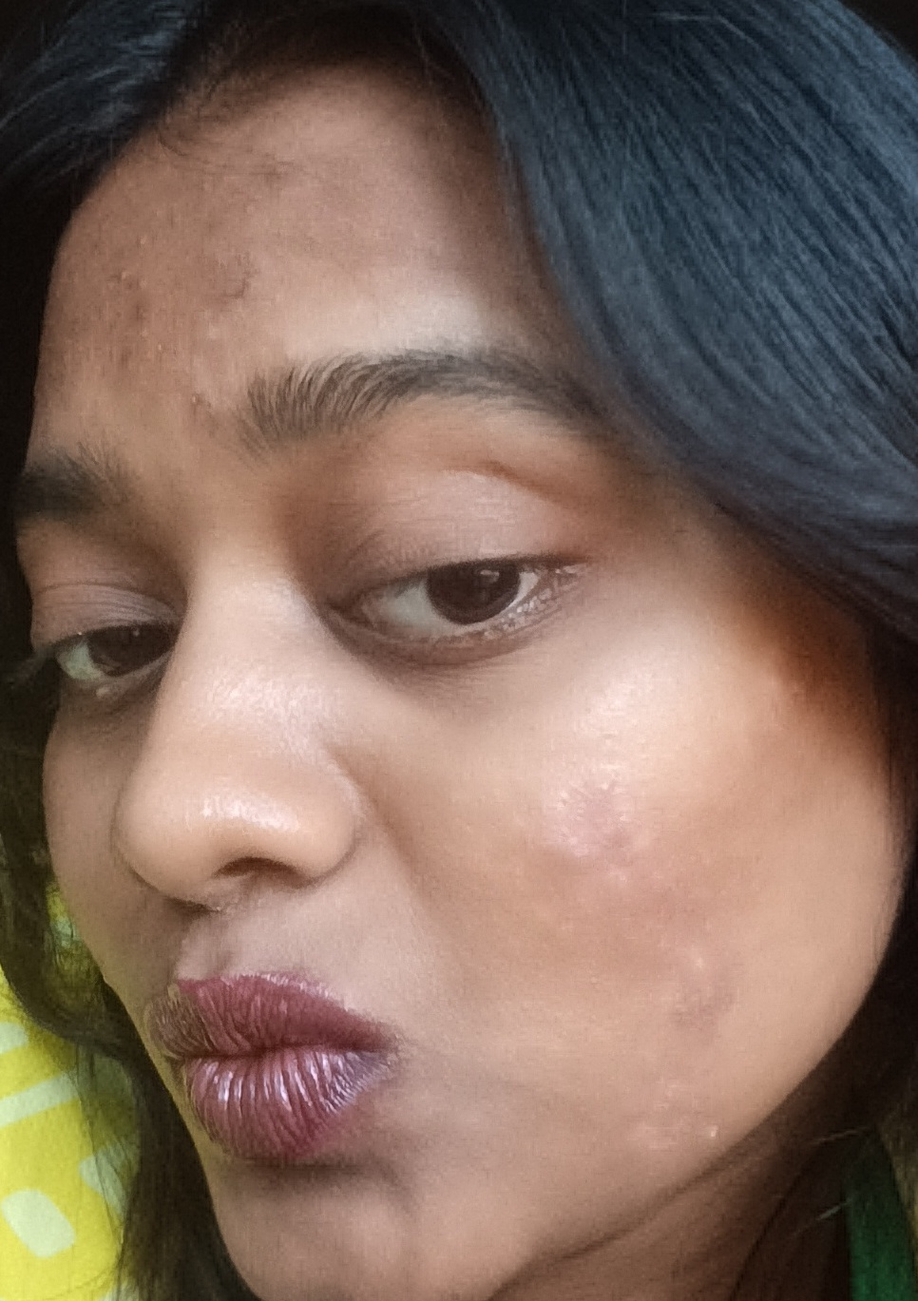closed_comedone: (91, 245, 170, 303)
nodule: (537, 820, 617, 927)
